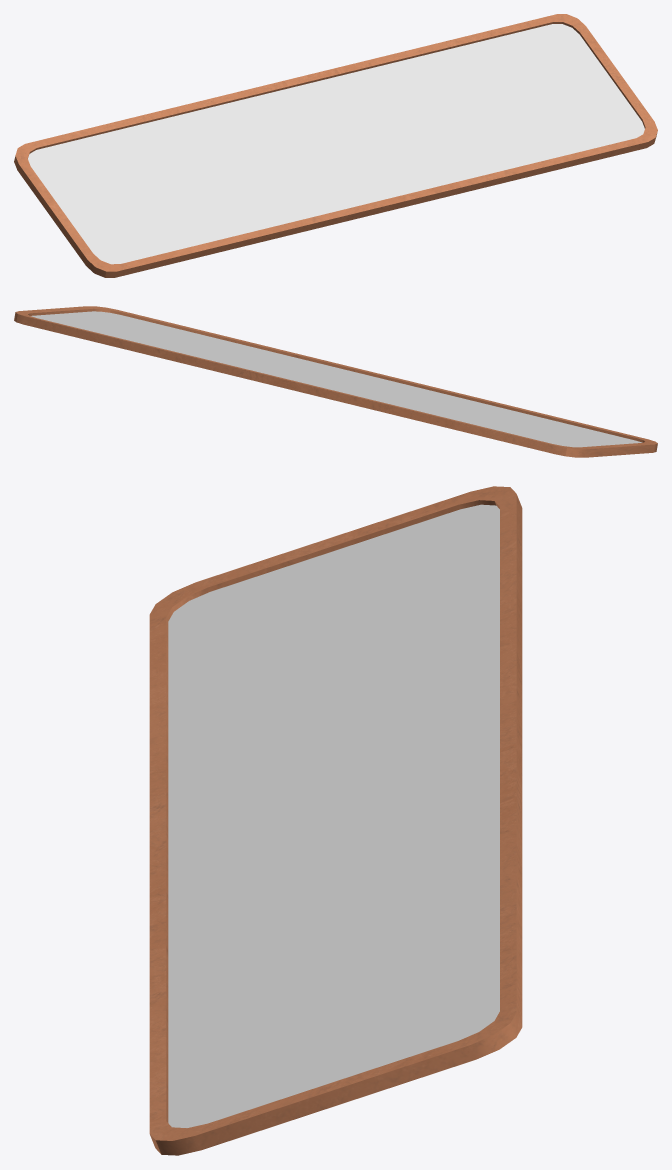
File: InfoTable_Mid.fbx
The picture shows the model from 3 angles, top to bottom: view 1: azimuth 30°, elevation 25°; view 2: azimuth 150°, elevation 25°; view 3: azimuth 270°, elevation 25°; orthographic projection. The views are drawn at different scales.
Parts seen in each view (by area): view 1: TextBase_01; view 2: TextBase_01; view 3: TextBase_01.
Part boxes in pixels (x1=…): TextBase_01: x1=14, y1=14, x2=657, y2=277; TextBase_01: x1=14, y1=306, x2=657, y2=457; TextBase_01: x1=149, y1=486, x2=522, y2=1155.
Bounding box in the file's own units: 16.52 × 1.89 × 4.7.
